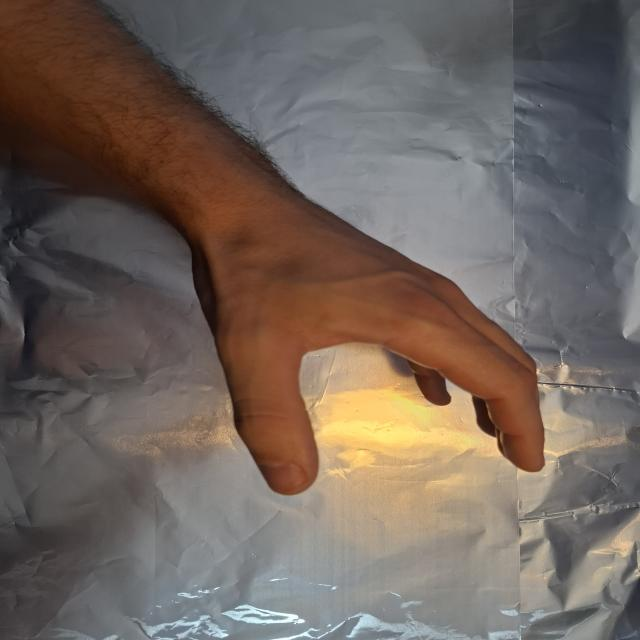glove_off: (186, 183, 548, 498)
